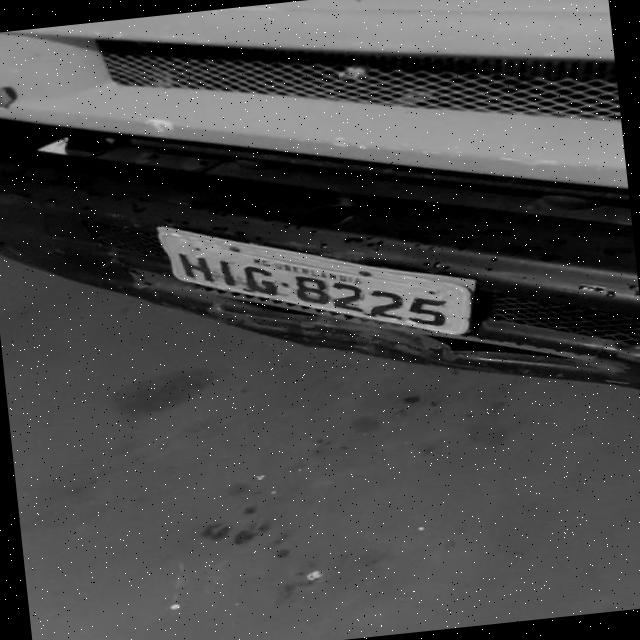placa_antiga: (162, 225, 476, 338)
